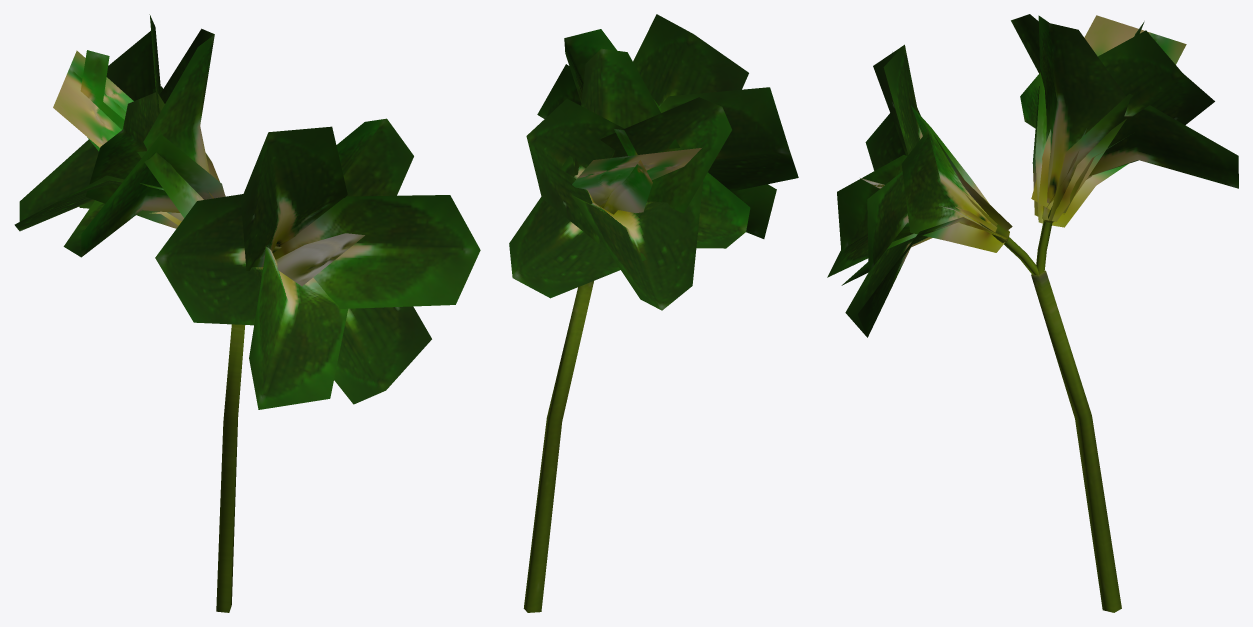
The model's file is Amaryllis_baby_short_greenyellow.glb.
3 renders of one model, left to right at view 1: azimuth 30°, elevation 25°; view 2: azimuth 150°, elevation 25°; view 3: azimuth 270°, elevation 25°, orthographic. The views are drawn at different scales.
Visible parts, largest first — view 1: baby; view 2: baby; view 3: baby.
Boxes of the visible parts, x1,y1,x2,y2 form: baby: (14, 14, 480, 612); baby: (509, 14, 798, 612); baby: (827, 14, 1238, 612).
Bounding box in the file's own units: 0.6819 × 1.24 × 0.8184.
1 material, 1 textured.
